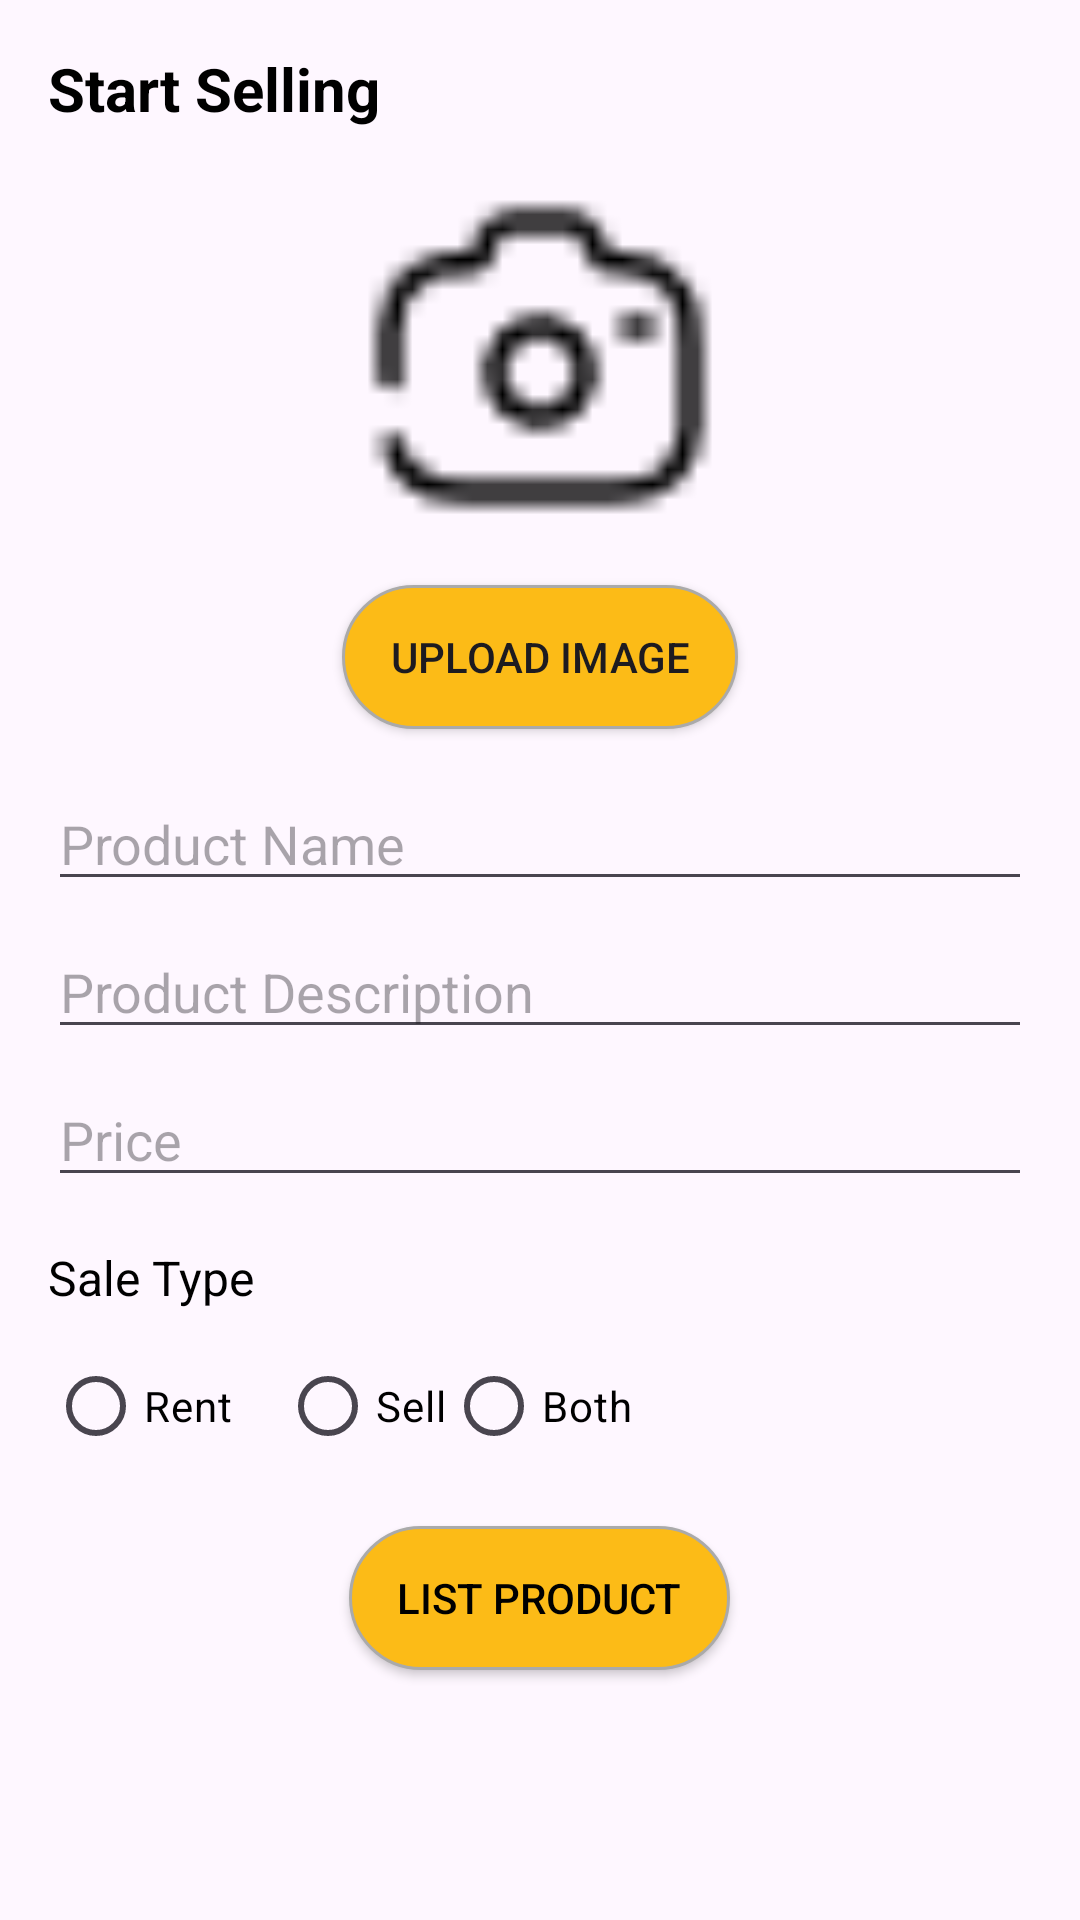

Icon click points for this 1080×1920 phone screenshot, format (x=x, y=y):
Product Image: (x=540, y=357)
